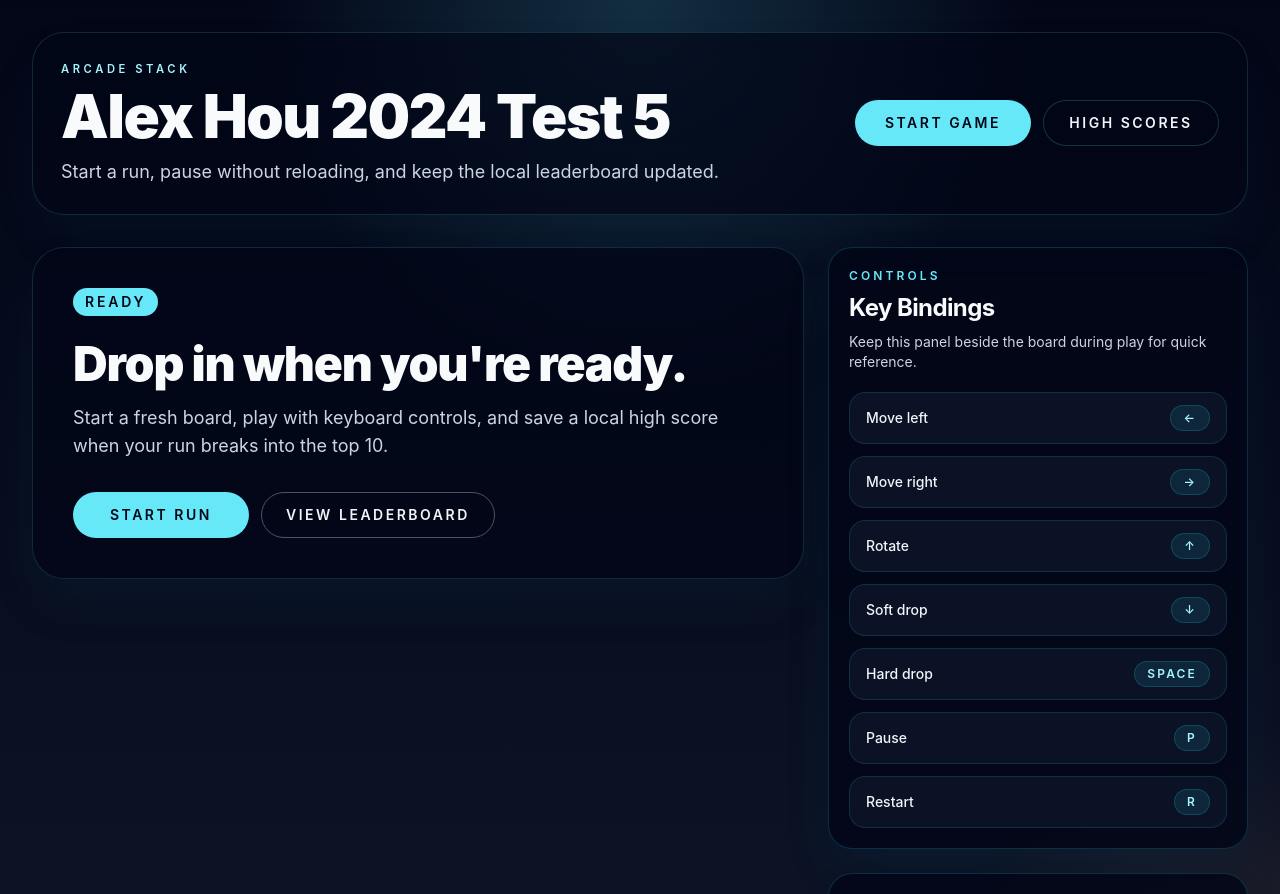
Test case: App › renders the start screen and can route to the leaderboard
Expected: the heading "Alex Hou 2024 Test 5" is shown, [61,86,719,146]
Expected: the heading "Drop in when you're ready." is shown, [73,340,763,388]
Click the button "View Leaderboard". click: (378, 515)
box: [261,492,495,538]
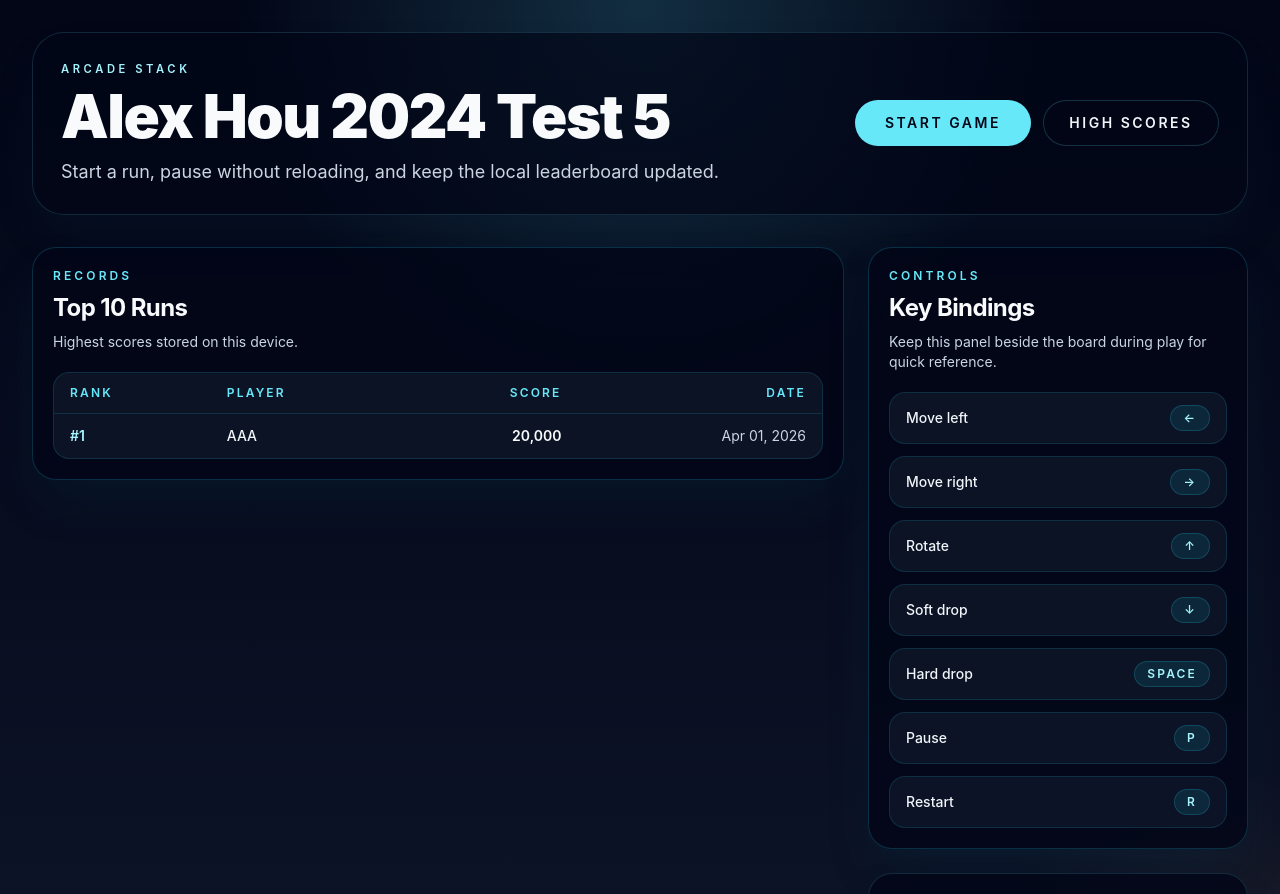
Expected: the text "AAA" is shown, [211,413,402,458]
Now the element named "High scores" is shown, box [32,247,844,480]
